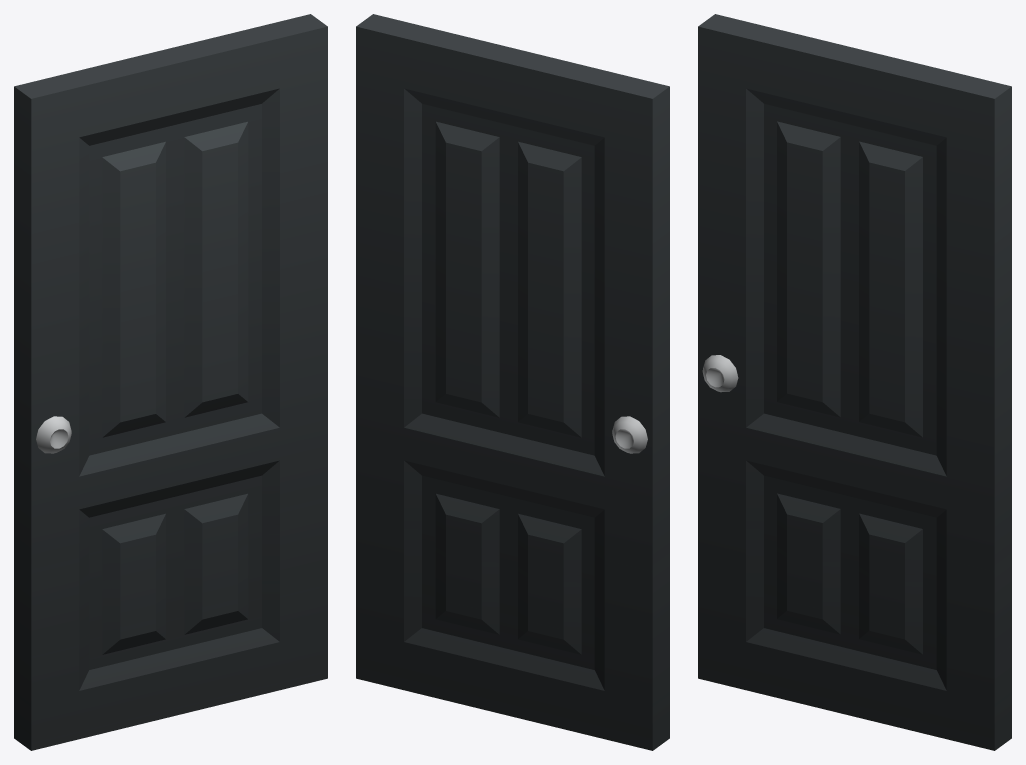
File: Door_Black_03.glb
3 views of the same model, side by side, from view 1: azimuth 30°, elevation 25°; view 2: azimuth 150°, elevation 25°; view 3: azimuth 330°, elevation 25° (orthographic).
Visible parts, largest first — view 1: Door_Black_03; view 2: Door_Black_03; view 3: Door_Black_03.
Part boxes in pixels (x1,y1,x2,y2): Door_Black_03: (14,14,327,750); Door_Black_03: (356,14,669,750); Door_Black_03: (698,14,1011,750).
Size of the model in its own units: 1 by 2.1 by 0.1634.
1 material, 1 textured.
